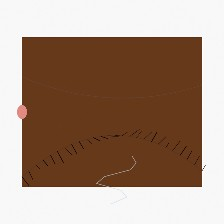foreign_body_visible: (134, 77, 172, 107)
